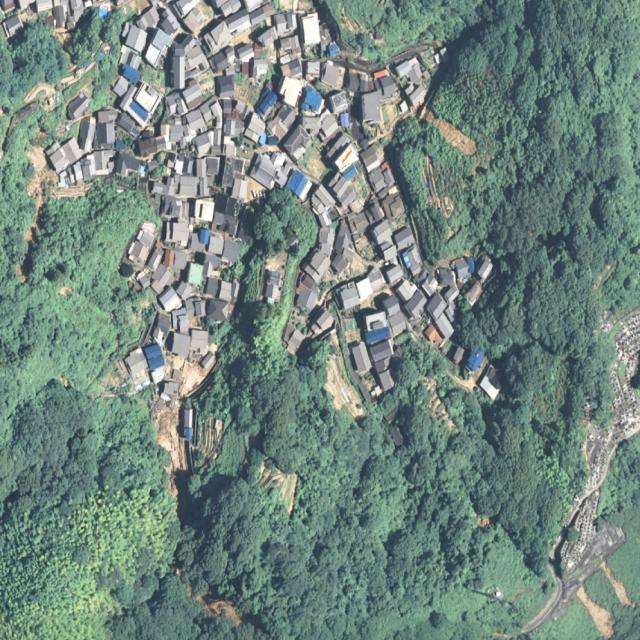landslide: (23, 145, 55, 245), (426, 110, 478, 155), (154, 408, 188, 473), (257, 463, 298, 515), (578, 587, 616, 640), (601, 561, 637, 609), (25, 147, 46, 170), (17, 268, 25, 282)
